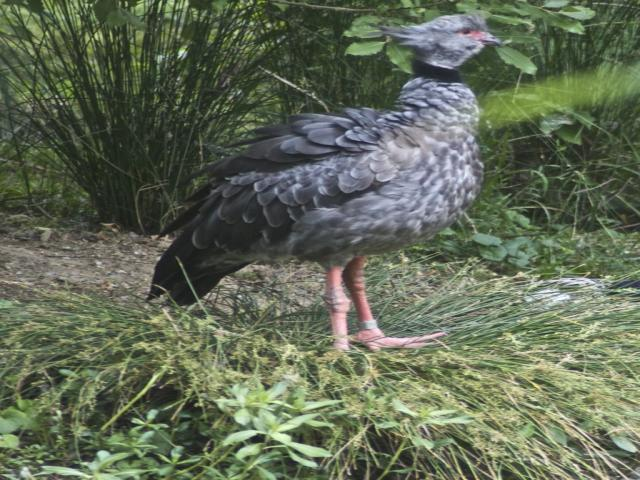Bird: (138, 17, 510, 359)
